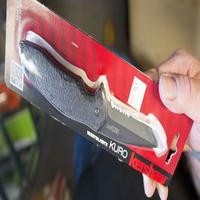knife: (10, 31, 157, 152)
